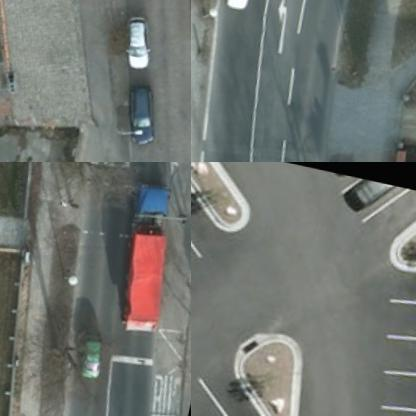car: (114, 10, 160, 70), (120, 81, 165, 142), (347, 172, 410, 212), (73, 325, 113, 378), (221, 0, 262, 13)
